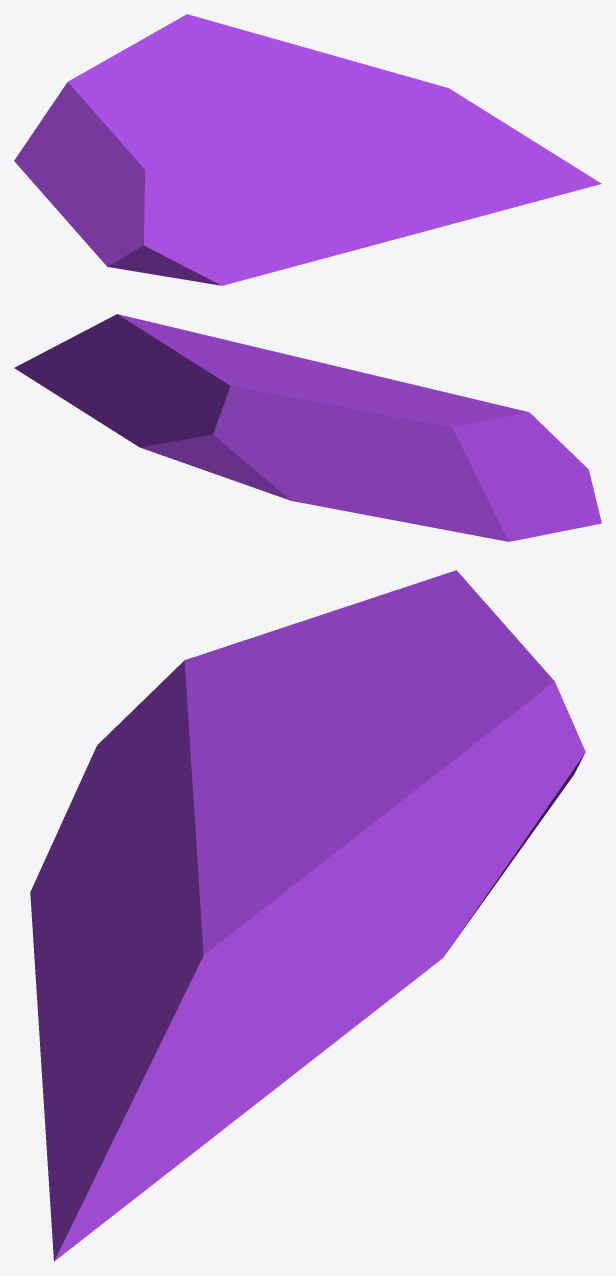
Rendered from Window_134_4_chunks.fbx.
3 views of the same model, one above another, from view 1: azimuth 30°, elevation 25°; view 2: azimuth 150°, elevation 25°; view 3: azimuth 270°, elevation 25° (orthographic). The views are drawn at different scales.
Parts seen in each view (by area): view 1: Window_134_4_1, Window_134_4_0, Window_134_4_6, Window_134_4_2, Window_134_4_5, Window_134_4_3; view 2: Window_134_4_0, Window_134_4_1, Window_134_4_2; view 3: Window_134_4_1, Window_134_4_2, Window_134_4_6, Window_134_4_0, Window_134_4_5, Window_134_4_3.
Boxes of the visible parts, bbox=[...] form: Window_134_4_1: bbox=[156, 14, 601, 201]; Window_134_4_0: bbox=[14, 32, 190, 267]; Window_134_4_6: bbox=[235, 147, 534, 266]; Window_134_4_2: bbox=[144, 75, 357, 210]; Window_134_4_5: bbox=[112, 214, 292, 285]; Window_134_4_3: bbox=[129, 184, 238, 243]; Window_134_4_0: bbox=[270, 390, 601, 541]; Window_134_4_1: bbox=[14, 314, 327, 494]; Window_134_4_2: bbox=[260, 348, 534, 417]; Window_134_4_1: bbox=[50, 652, 585, 1261]; Window_134_4_2: bbox=[135, 659, 397, 905]; Window_134_4_6: bbox=[34, 796, 157, 1196]; Window_134_4_0: bbox=[124, 570, 575, 789]; Window_134_4_5: bbox=[30, 741, 110, 960]; Window_134_4_3: bbox=[101, 718, 144, 826].
Bounding box in the file's own units: 680 × 205 × 339.
